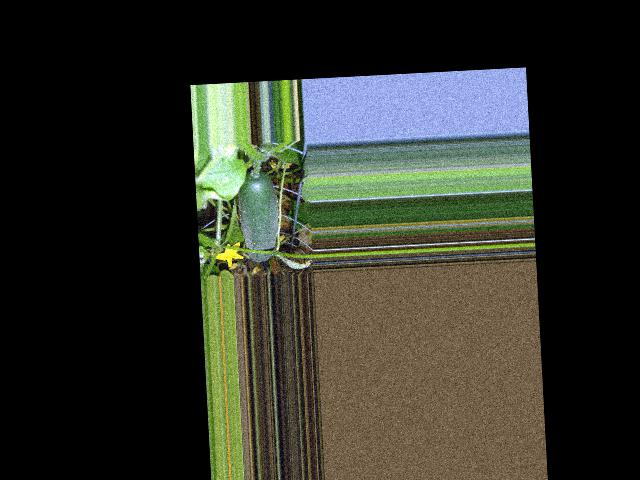cucumber: (237, 169, 282, 262)
